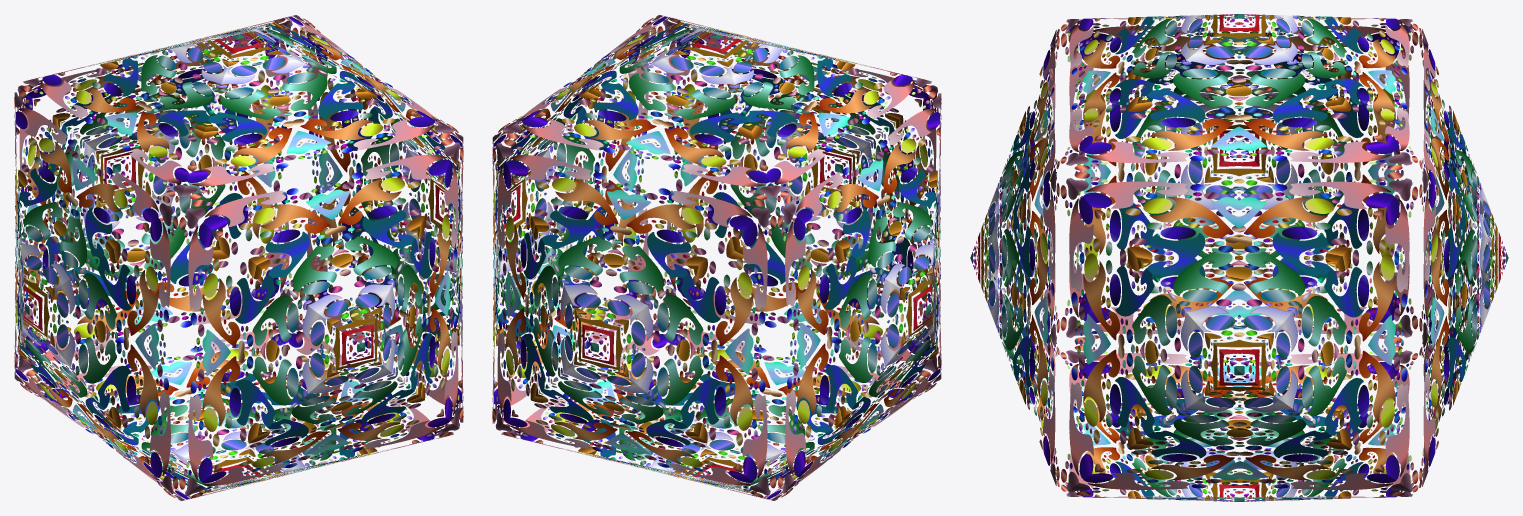
File: TetrakisHexahedron.obj
3 renders of one model, left to right at view 1: azimuth 30°, elevation 25°; view 2: azimuth 150°, elevation 25°; view 3: azimuth 270°, elevation 25°, orthographic. The views are drawn at different scales.
Size of the model in its own units: 3.18 by 3.18 by 3.18.
Materials: 1 (1 with a texture image).
